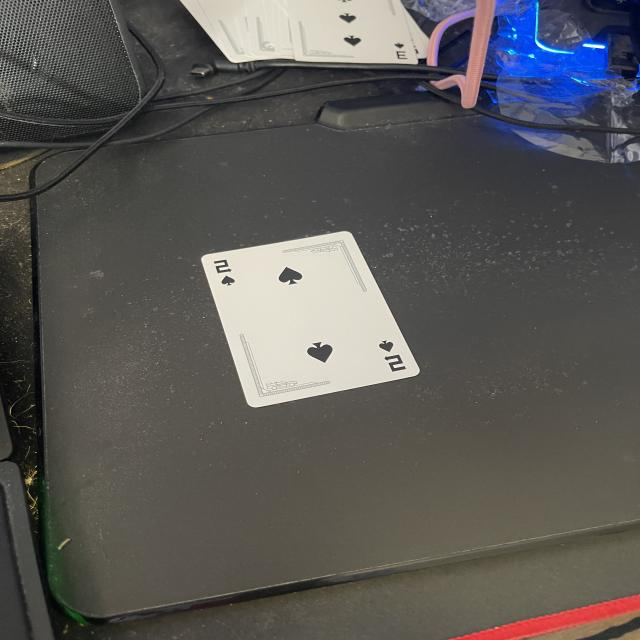3 of spades: (292, 1, 418, 63)
4 of spades: (199, 231, 421, 410)
